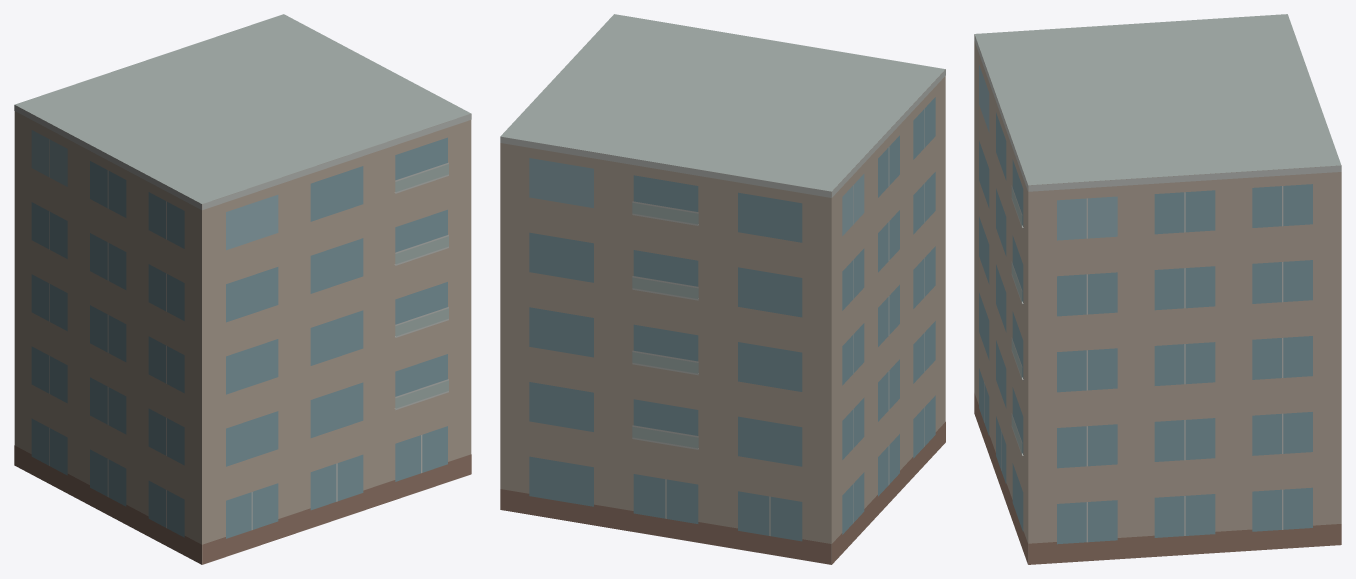
Rendered from survey-upis-32523719.glb.
3 renders of one model, left to right at view 1: azimuth 30°, elevation 25°; view 2: azimuth 150°, elevation 25°; view 3: azimuth 270°, elevation 25°, orthographic. The views are drawn at different scales.
Parts seen in each view (by area): view 1: survey-upis-32523719.tmp; view 2: survey-upis-32523719.tmp; view 3: survey-upis-32523719.tmp.
Part boxes in pixels (x1=…): survey-upis-32523719.tmp: x1=14, y1=14, x2=471, y2=564; survey-upis-32523719.tmp: x1=500, y1=14, x2=945, y2=564; survey-upis-32523719.tmp: x1=974, y1=14, x2=1341, y2=564.
Bounding box in the file's own units: 13.85 × 14.3 × 12.54.
